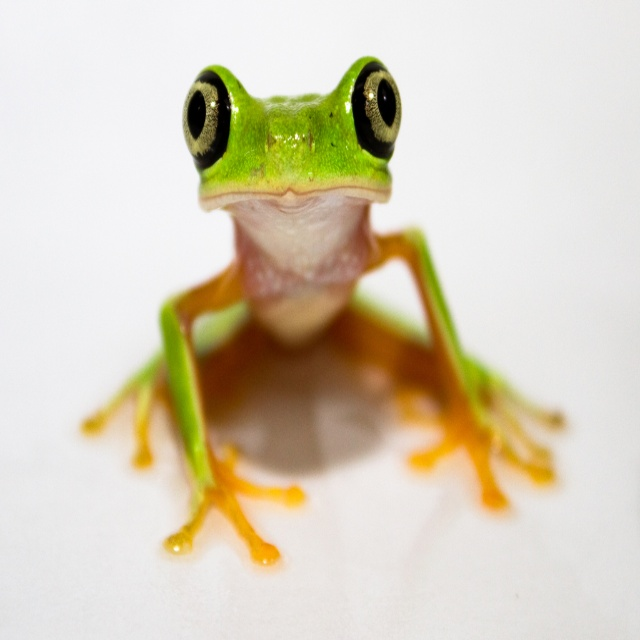Frog: (77, 55, 564, 577)
